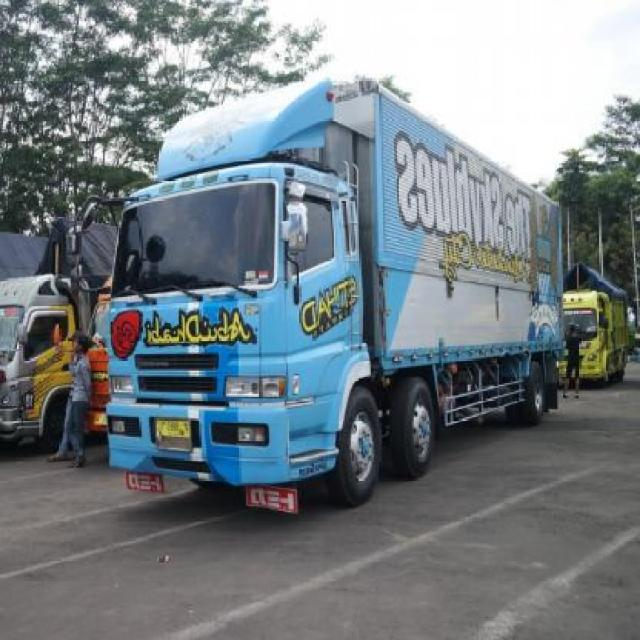truck: (106, 75, 565, 515), (557, 274, 630, 400)
